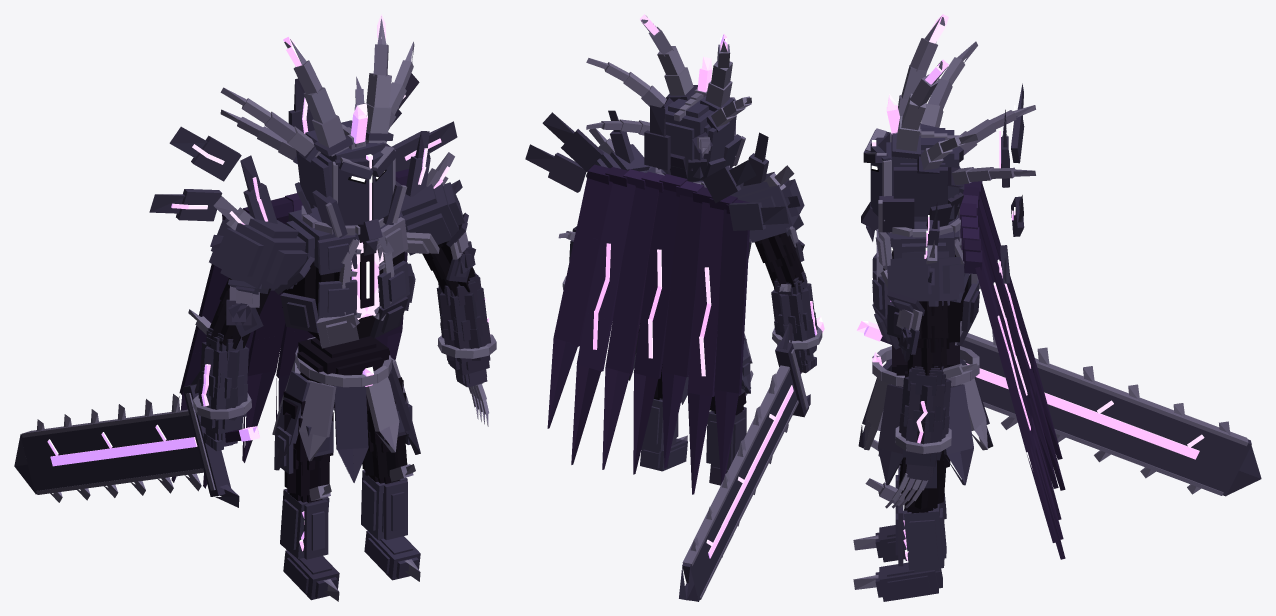
3 renders of one model, left to right at view 1: azimuth 30°, elevation 25°; view 2: azimuth 150°, elevation 25°; view 3: azimuth 270°, elevation 25°, orthographic. The views are drawn at different scales.
Parts seen in each view (by area): view 1: GateSovereign; view 2: GateSovereign; view 3: GateSovereign.
Part boxes in pixels (x1=…): GateSovereign: x1=14, y1=14, x2=496, y2=601; GateSovereign: x1=525, y1=14, x2=824, y2=601; GateSovereign: x1=853, y1=14, x2=1261, y2=601.
Size of the model in its own units: 1.22 by 2 by 1.37.
